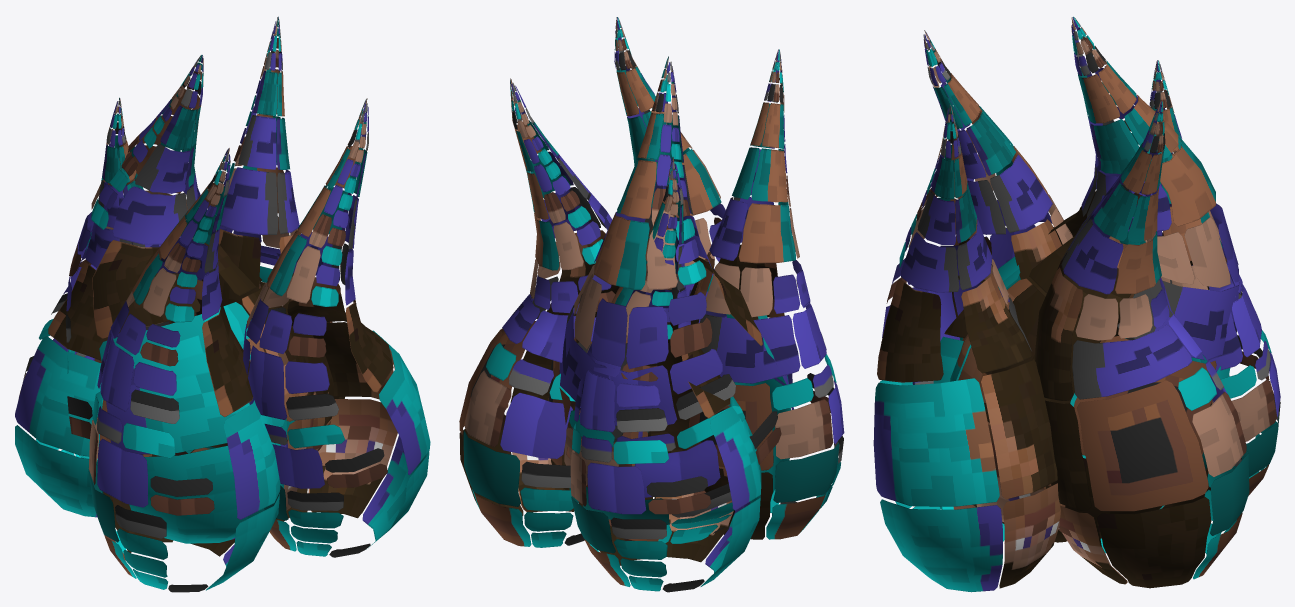
3 views of the same model, side by side, from view 1: azimuth 30°, elevation 25°; view 2: azimuth 150°, elevation 25°; view 3: azimuth 270°, elevation 25° (orthographic). The views are drawn at different scales.
Parts seen in each view (by area): view 1: flame_NurbsPath.015; view 2: flame_NurbsPath.015; view 3: flame_NurbsPath.015.
Boxes of the visible parts, x1=… form: flame_NurbsPath.015: x1=15, y1=16, x2=430, y2=592; flame_NurbsPath.015: x1=459, y1=17, x2=844, y2=592; flame_NurbsPath.015: x1=873, y1=16, x2=1280, y2=592.
Bounding box in the file's own units: 0.7535 × 1.16 × 0.8101.
